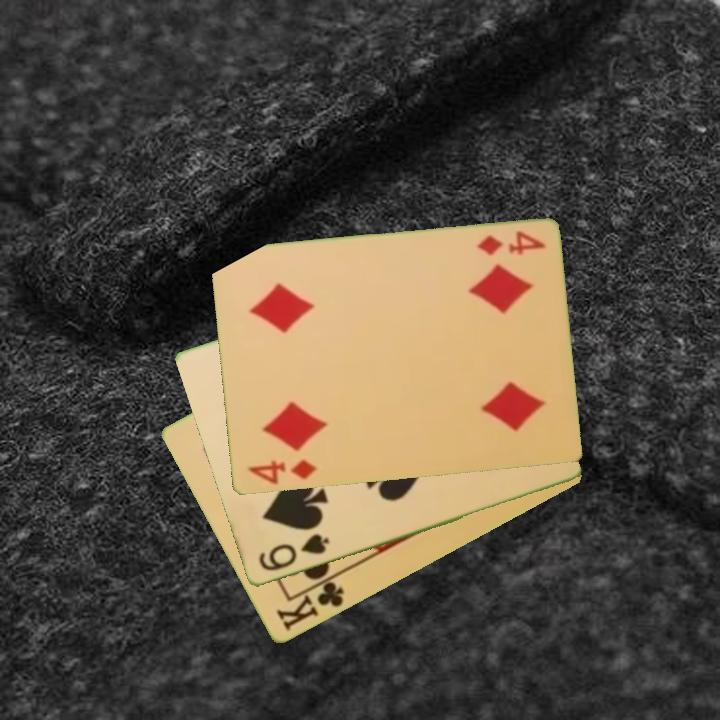4d: (243, 457, 320, 488), (473, 228, 548, 259)
6s: (255, 530, 332, 575)
Kc: (272, 571, 347, 635)
